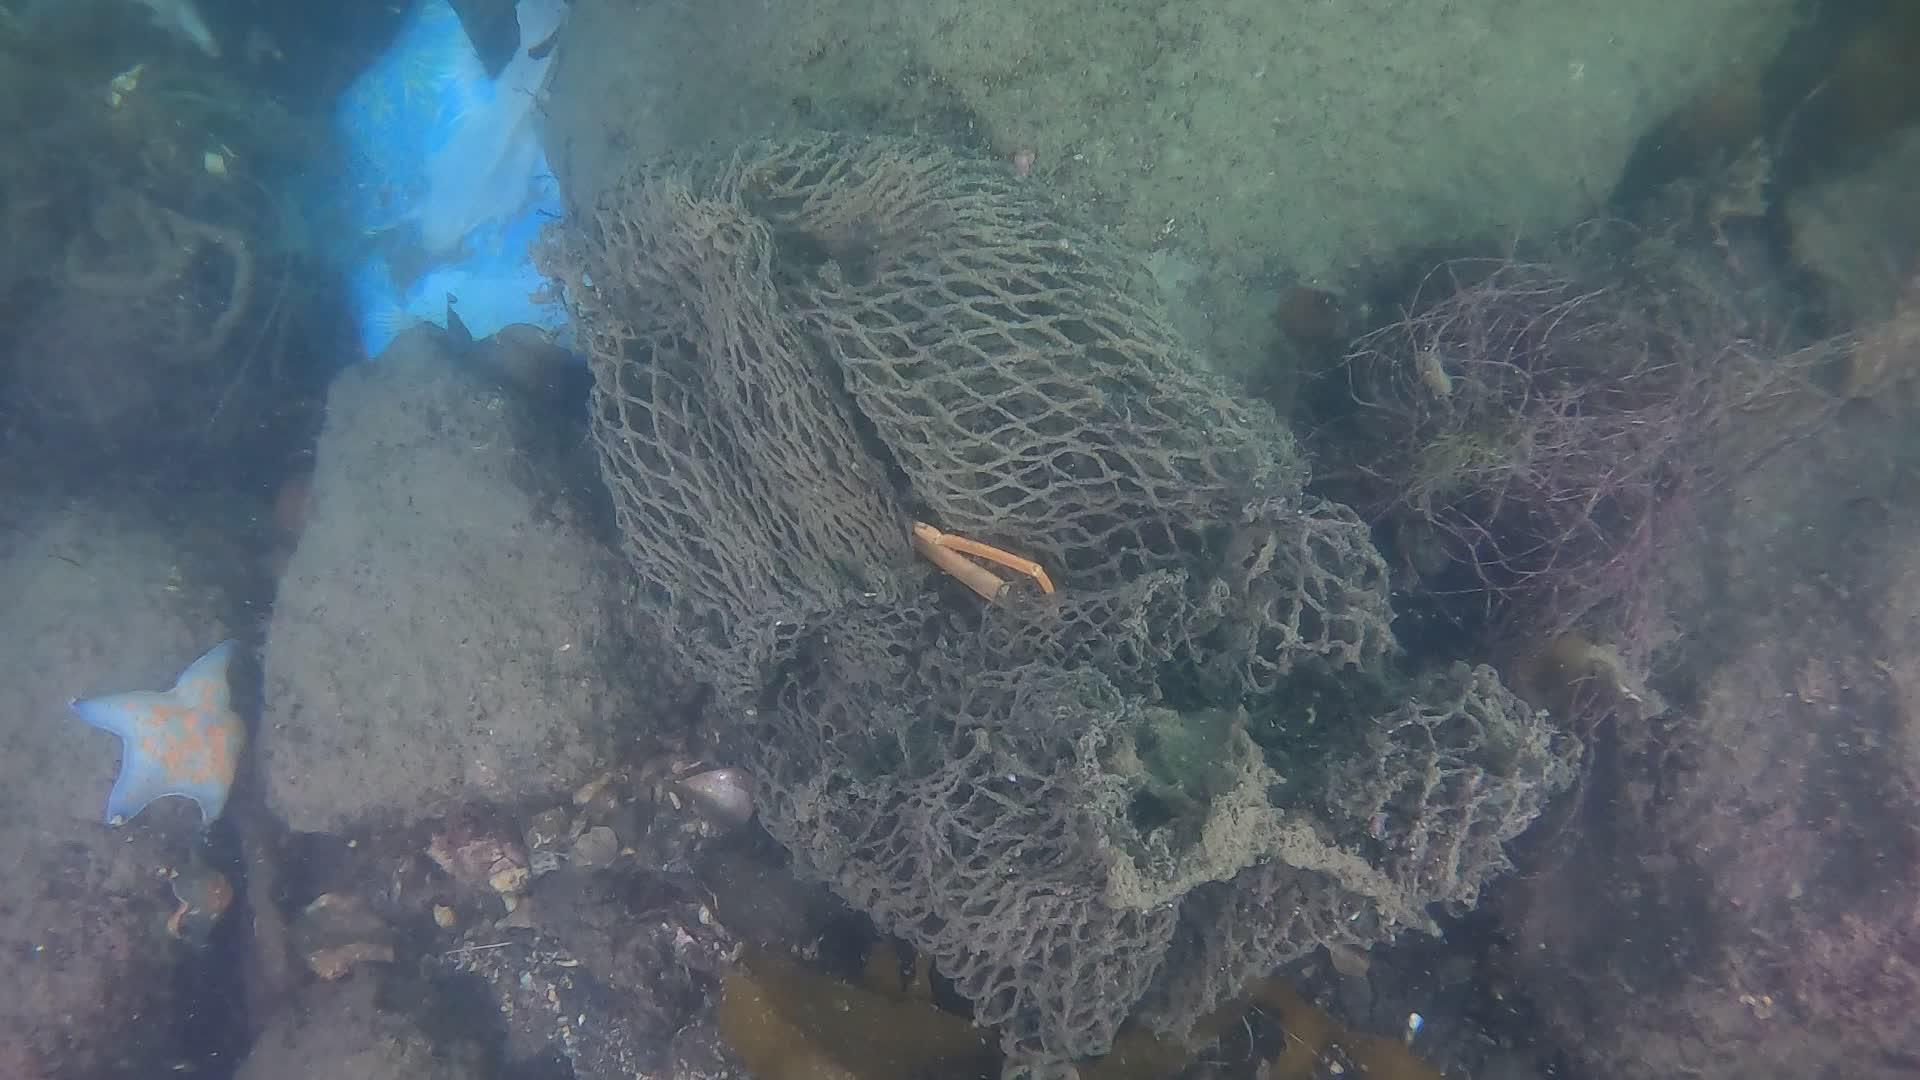fish net: (589, 131, 1538, 1073)
